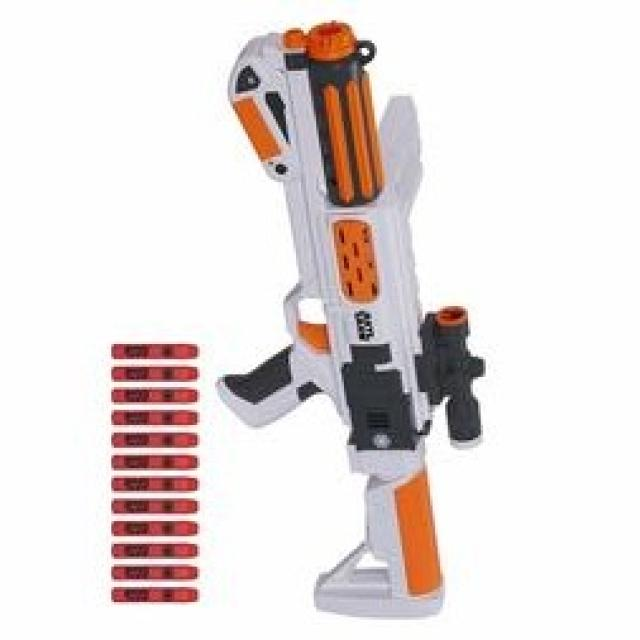Nerf gun: (205, 14, 498, 623)
